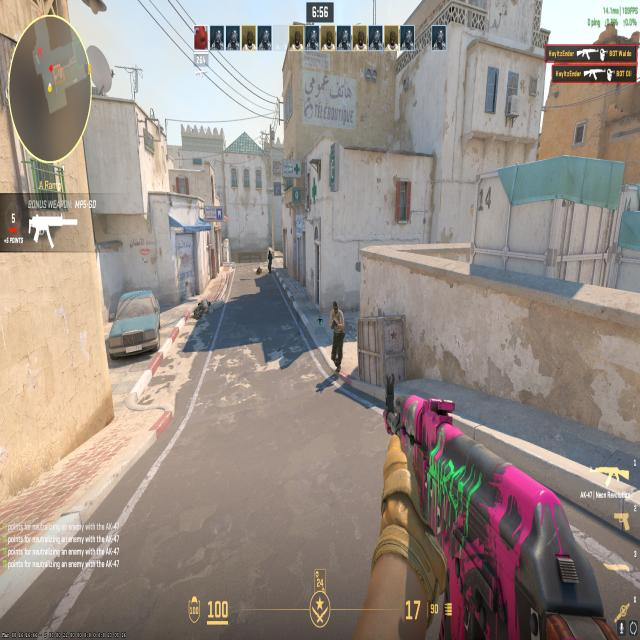ct: (266, 248, 274, 274)
t: (327, 298, 345, 374)
